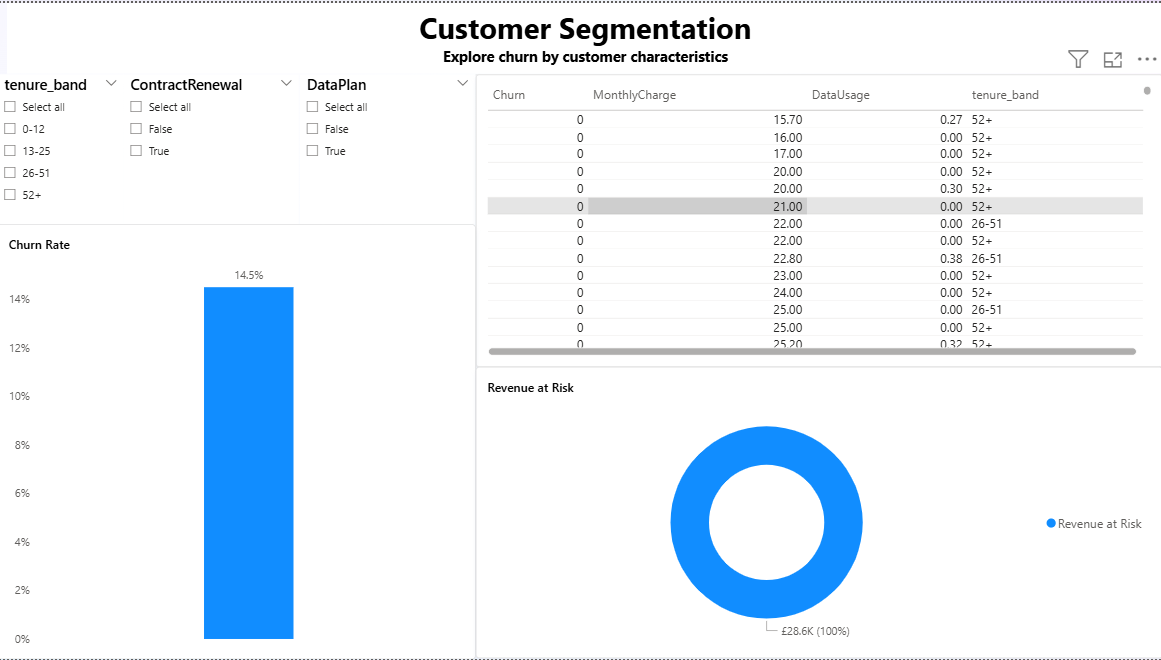

The page's visual inventory and layout, read from the dashboard file:
{"tool":"powerbi","page":{"name":"Segmentation","canvas":[1280,720],"ordinal":2},"visuals":[{"type":"textbox","box":[10.5,0,1269.8,77.9],"z":0},{"type":"slicer","fields":{"Values":["churn_cleaned.tenure_band"]},"box":[0,77.9,139.3,164.7],"z":1},{"type":"slicer","fields":{"Values":["churn_cleaned.ContractRenewal"]},"box":[139.3,77.9,193.2,164.7],"z":2},{"type":"slicer","fields":{"Values":["churn_cleaned.DataPlan"]},"box":[332.4,77.9,193.2,164.7],"z":3},{"type":"tableEx","fields":{"Values":["churn_cleaned.Churn","churn_cleaned.MonthlyCharge","churn_cleaned.DataUsage","churn_cleaned.tenure_band"]},"box":[525.6,77.9,754.7,321.9],"z":4},{"type":"clusteredColumnChart","fields":{"Y":["churn_cleaned.Churn Rate"]},"box":[0,242.6,525.6,477.7],"z":5},{"type":"donutChart","fields":{"Y":["churn_cleaned.Revenue at Risk"]},"box":[526,400,754,320],"z":6}]}

Visuals, with their boxes on the page's 1280x720 design canvas (x1, y1, x2, y2). These are canvas units, not pixel positions in the 1161x660 screenshot, which may show the page scaled, cropped or inside an application window:
textbox: 10,0,1280,78
slicer - churn_cleaned.tenure_band: 0,78,139,243
slicer - churn_cleaned.ContractRenewal: 139,78,332,243
slicer - churn_cleaned.DataPlan: 332,78,526,243
tableEx - churn_cleaned.Churn x churn_cleaned.MonthlyCharge: 526,78,1280,400
clusteredColumnChart - churn_cleaned.Churn Rate: 0,243,526,720
donutChart - churn_cleaned.Revenue at Risk: 526,400,1280,720
